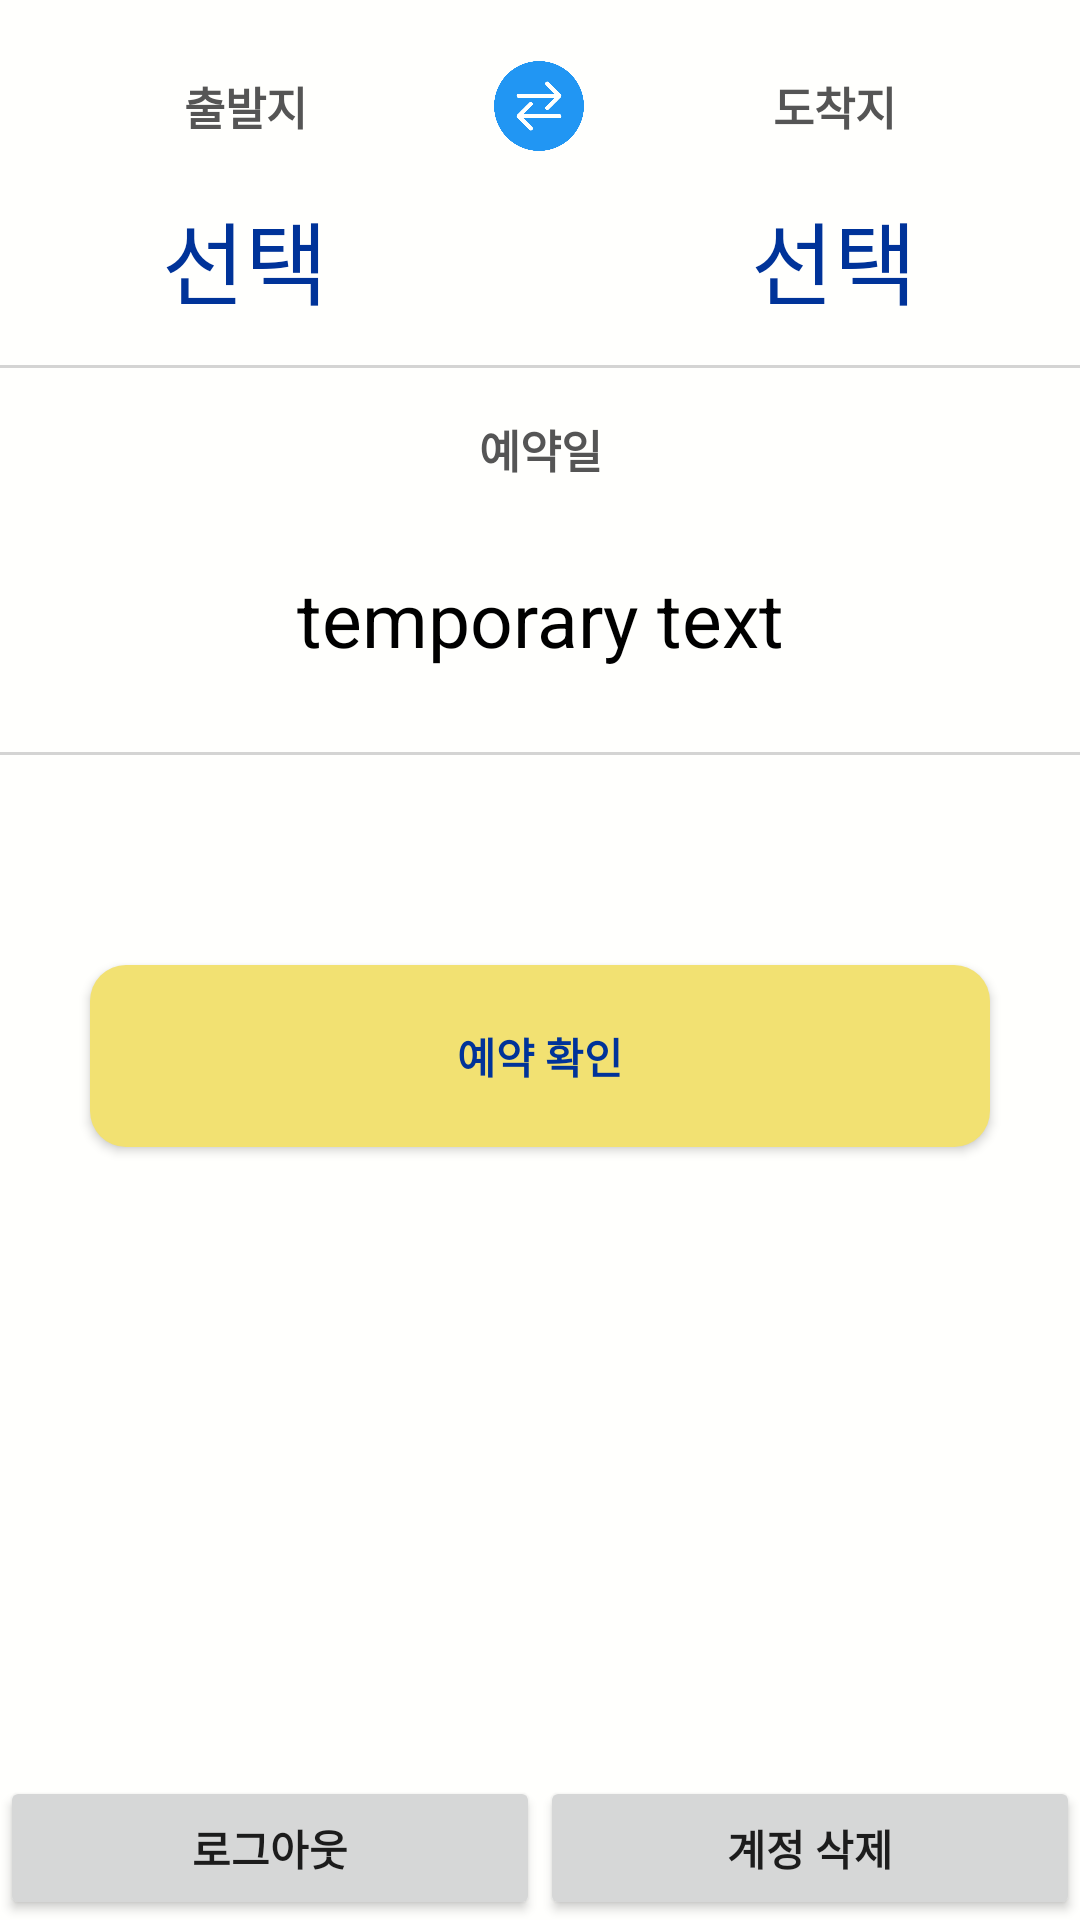

Where icons sit on this 1080px×1920px app screen, as (x1, y1, x2, y2):
two arrows: (494, 61, 584, 151)
